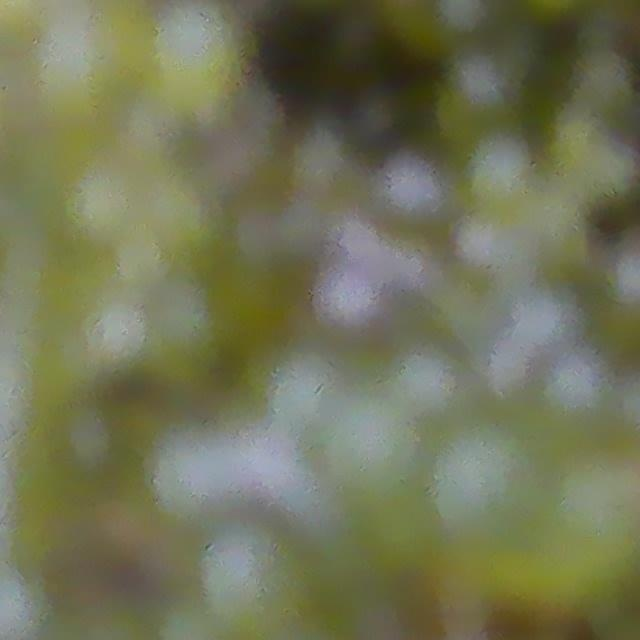SeaGrape: (416, 408, 544, 542), (319, 393, 422, 504), (196, 522, 282, 617), (390, 344, 466, 422), (539, 352, 611, 427), (465, 135, 536, 210)
